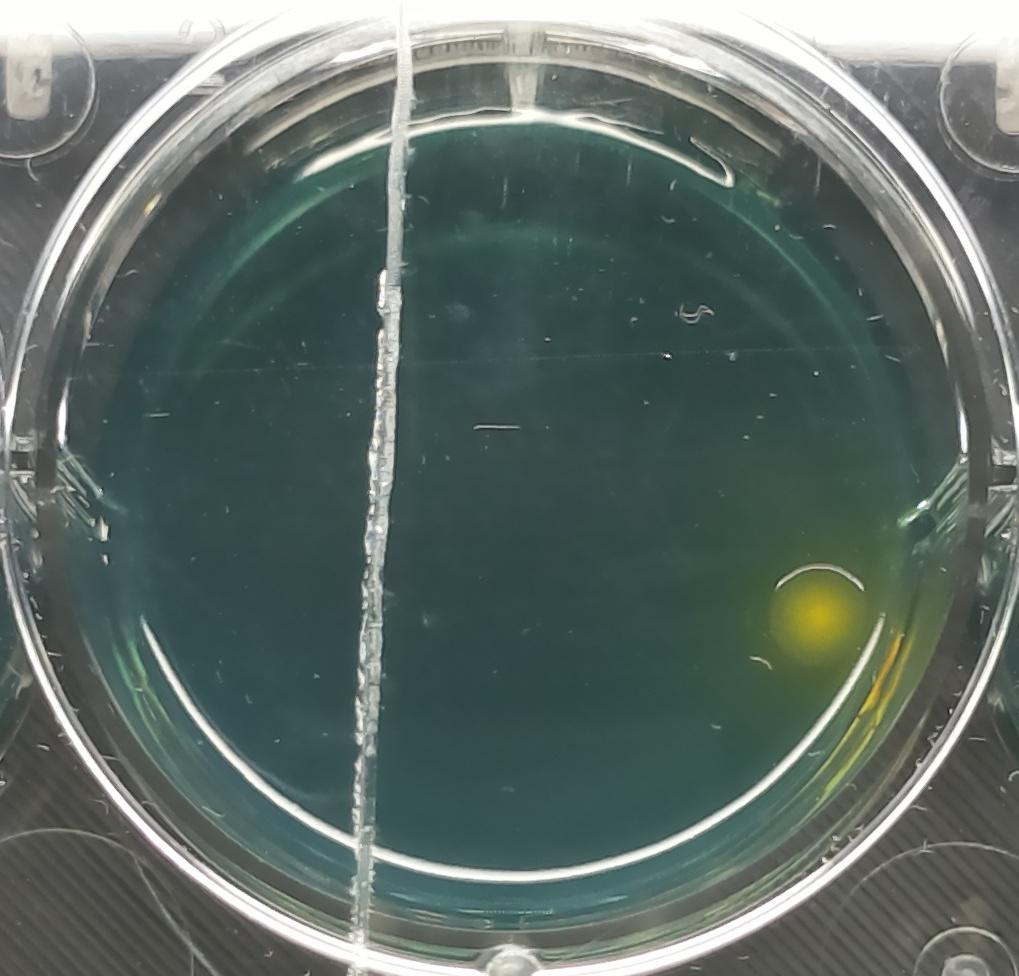vharveyi: (752, 548, 876, 676)
